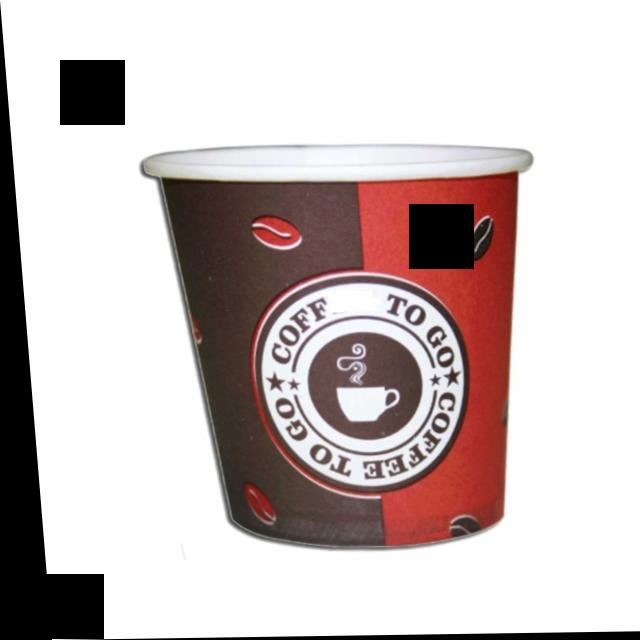karton-bardak: (132, 125, 577, 566)
